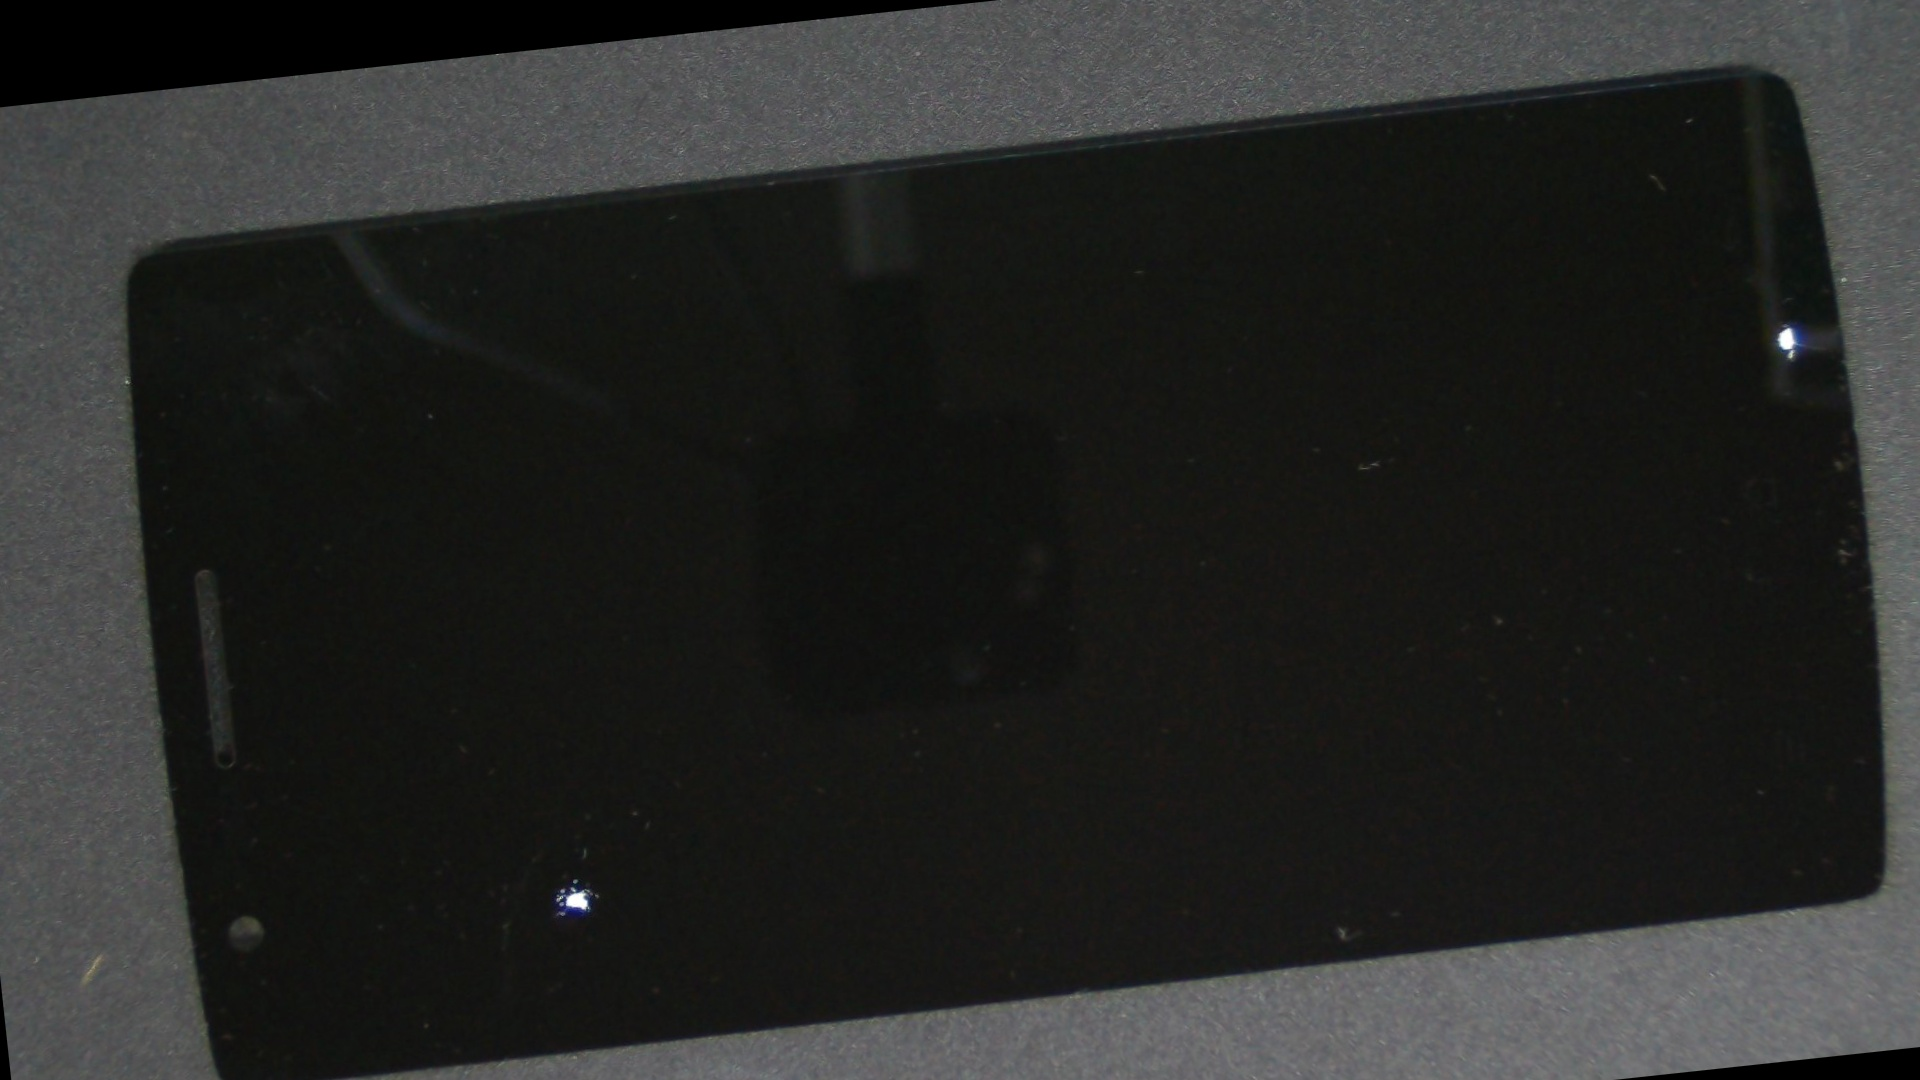oil: (847, 98, 1920, 622), (241, 435, 895, 1080)
